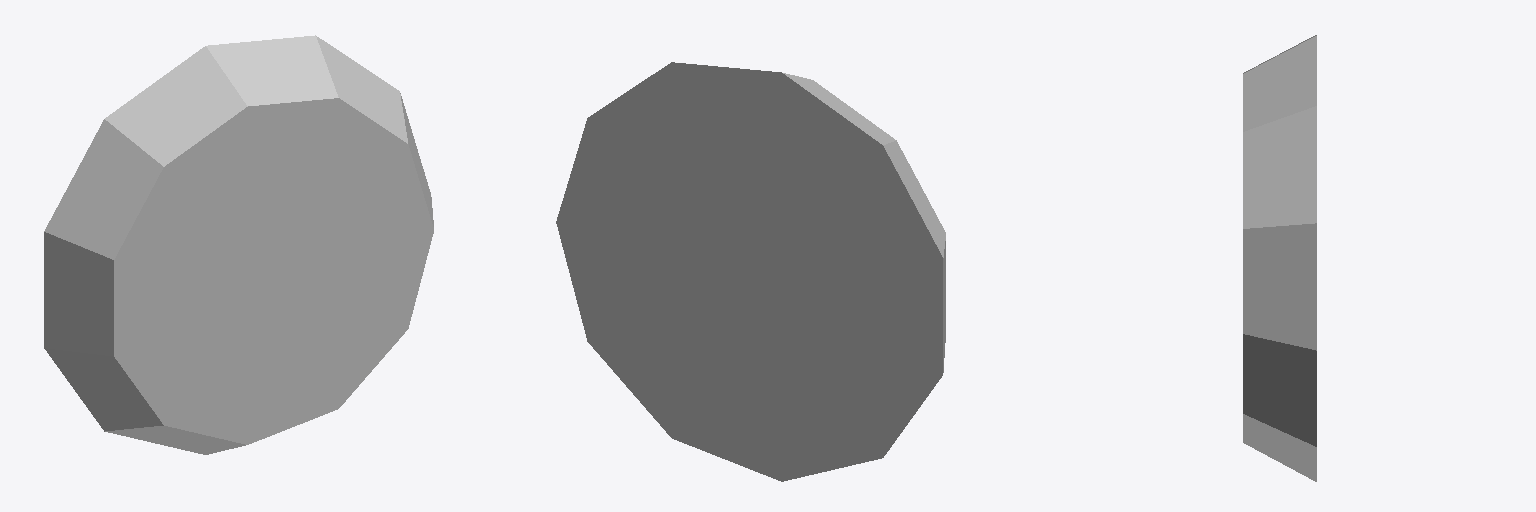
The model's file is onion_1.obj.
The picture shows the model from 3 angles: view 1: azimuth 30°, elevation 25°; view 2: azimuth 150°, elevation 25°; view 3: azimuth 270°, elevation 25°; orthographic projection.
Size of the model in its own units: 1.96 by 1.98 by 0.3199.